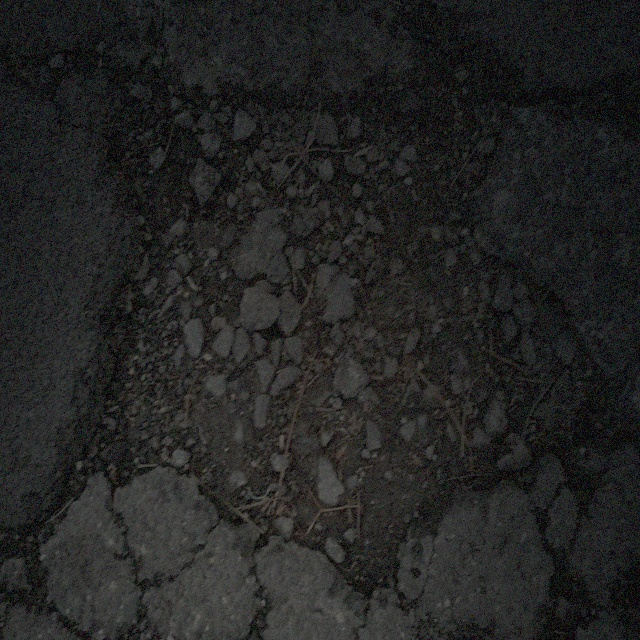pothole: (94, 66, 575, 587)
